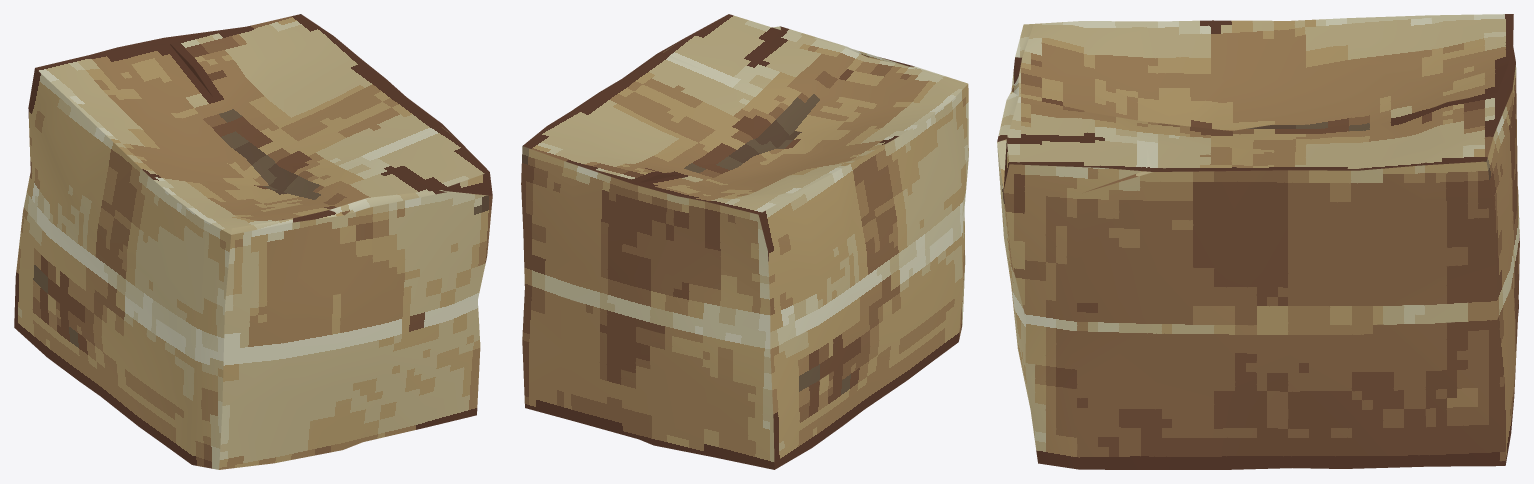
Rendered from cardboard_box_01.glb.
3 renders of one model, left to right at view 1: azimuth 30°, elevation 25°; view 2: azimuth 150°, elevation 25°; view 3: azimuth 270°, elevation 25°, orthographic. The views are drawn at different scales.
Parts seen in each view (by area): view 1: mesh; view 2: mesh; view 3: mesh.
Boxes of the visible parts, x1=… form: mesh: x1=14, y1=14, x2=492, y2=469; mesh: x1=521, y1=14, x2=968, y2=469; mesh: x1=997, y1=14, x2=1519, y2=469.
Size of the model in its own units: 0.3917 by 0.3418 by 0.5161.
1 material, 1 textured.
